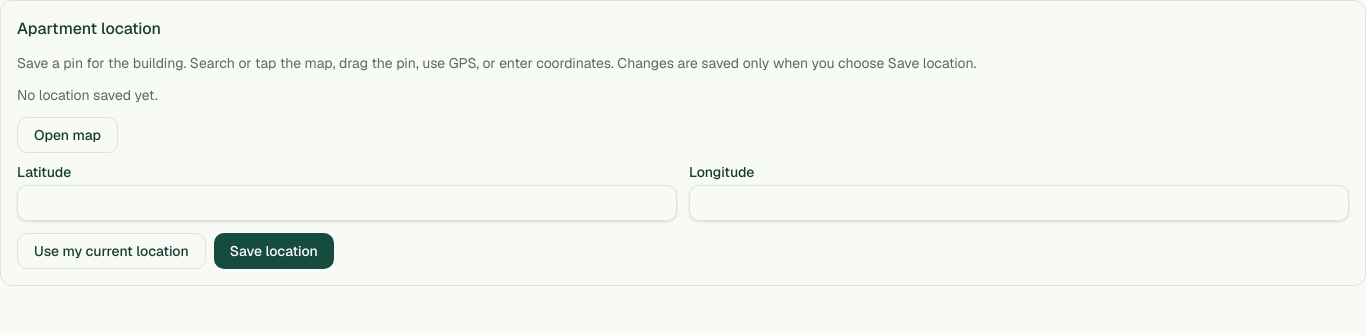
Scenario: apartment location › uses explicit GPS permission and recovers from permission denial
Click the button "Use my current location" at point(111, 251), box [17, 233, 206, 269]
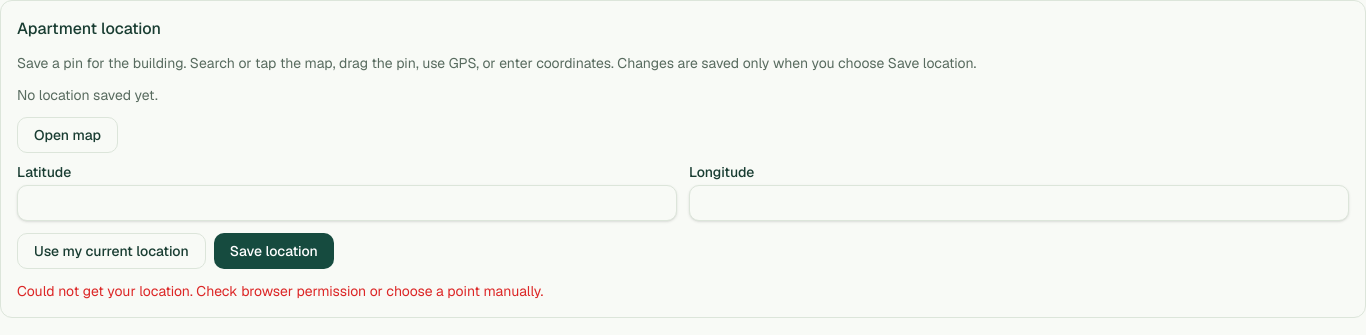
Check: the number field labelled "Latitude" is enabled, box [17, 185, 677, 221]
Check: the message shows "Check browser permission", box [17, 282, 543, 300]
